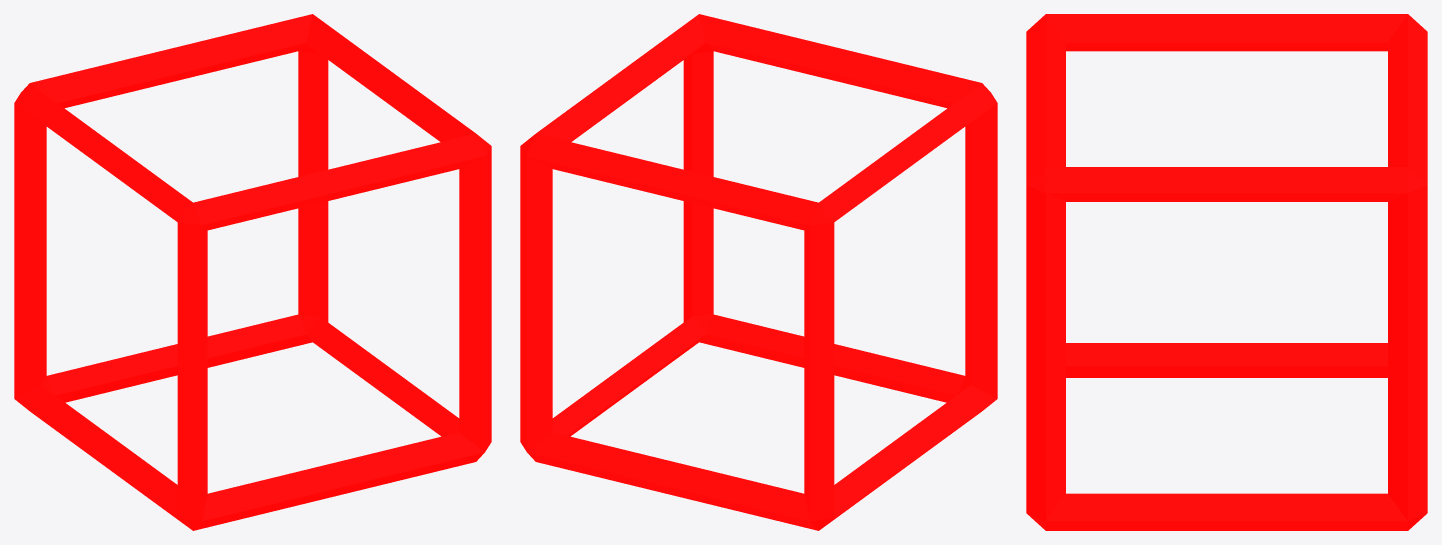
File: EnergyCube.fbx
The picture shows the model from 3 angles, left to right: view 1: azimuth 30°, elevation 25°; view 2: azimuth 150°, elevation 25°; view 3: azimuth 270°, elevation 25°; orthographic projection. The views are drawn at different scales.
Parts seen in each view (by area): view 1: Cube; view 2: Cube; view 3: Cube.
Boxes of the visible parts, x1,y1,x2,y2 form: Cube: (14, 14, 491, 530); Cube: (520, 14, 997, 530); Cube: (1026, 14, 1427, 530).
Bounding box in the file's own units: 2 × 2 × 2.
